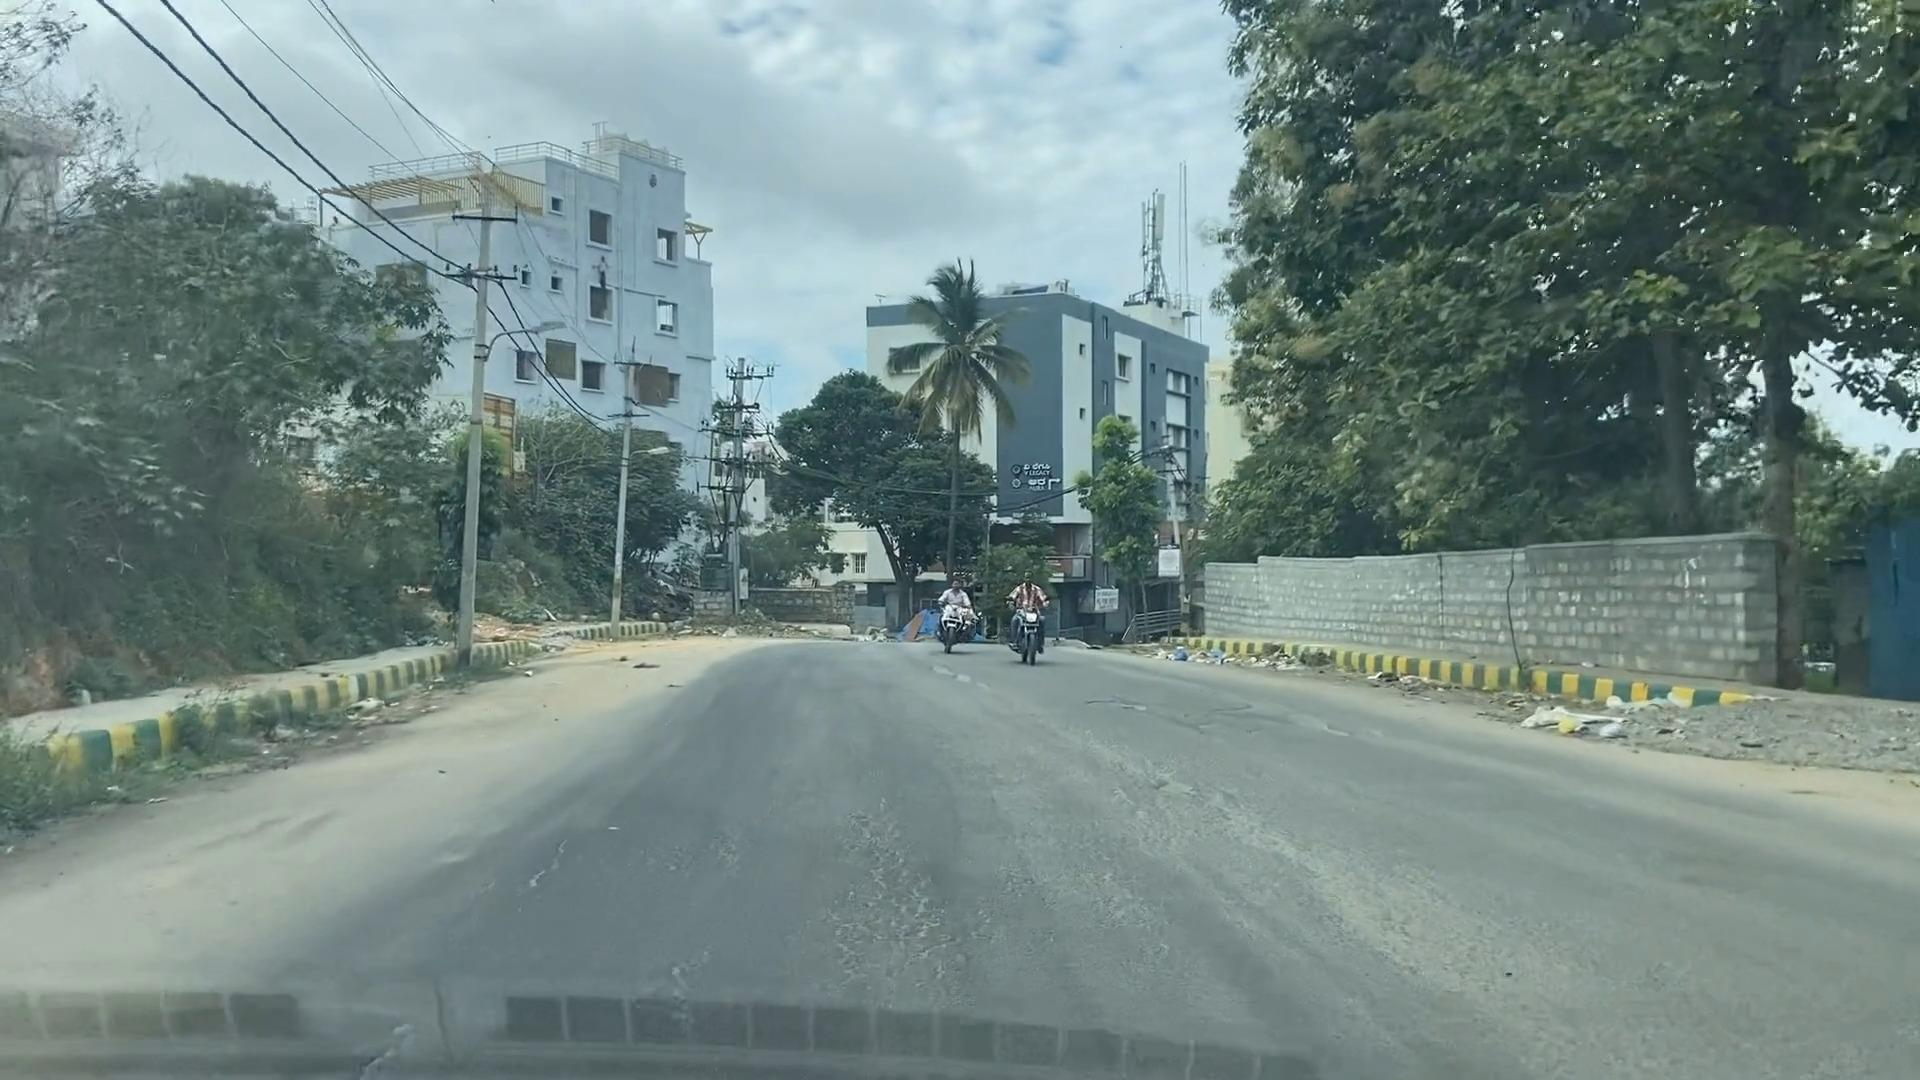RoadDamages: (901, 646, 1002, 713)
